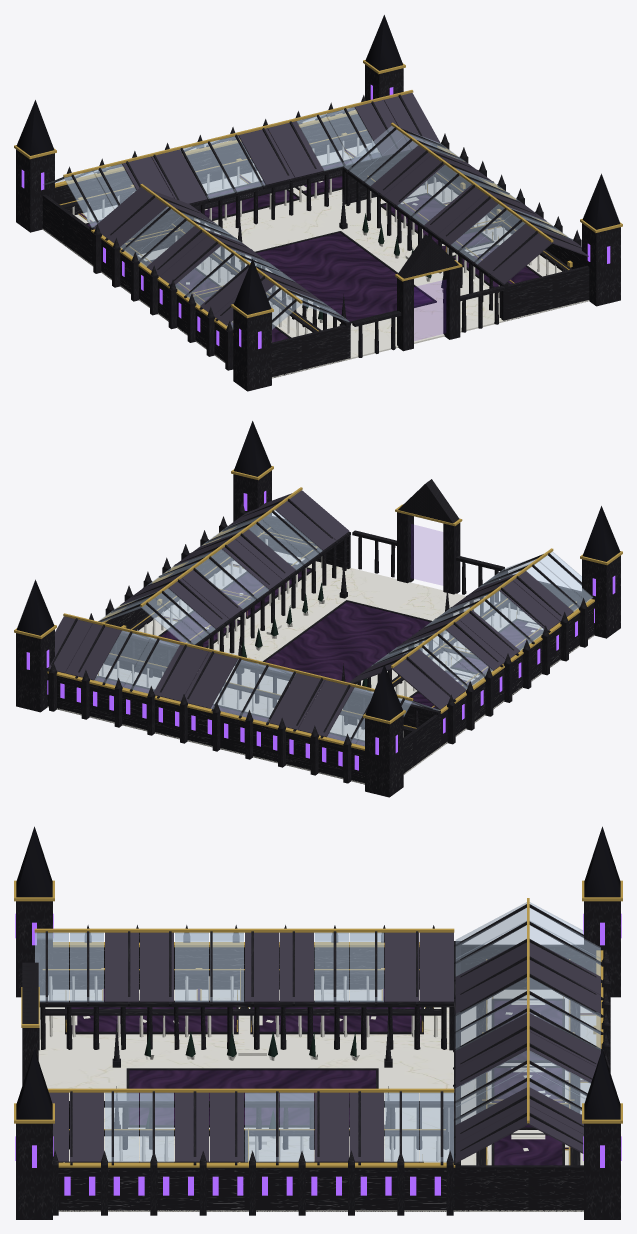
Rendered from inkwell-lake-far.glb.
3 renders of one model, top to bottom at view 1: azimuth 30°, elevation 25°; view 2: azimuth 150°, elevation 25°; view 3: azimuth 270°, elevation 25°, orthographic. The views are drawn at different scales.
Parts seen in each view (by area): view 1: object 1, Inkwell_Lake; view 2: object 1, Inkwell_Lake; view 3: object 1, Inkwell_Lake.
Boxes of the visible parts, x1,y1,x2,y2 form: object 1: (14, 15, 622, 391); Inkwell_Lake: (43, 93, 588, 329); object 1: (14, 421, 622, 797); Inkwell_Lake: (48, 490, 592, 746); object 1: (14, 826, 622, 1219); Inkwell_Lake: (35, 902, 600, 1162).
Bounding box in the file's own units: 276 × 87.6 × 296.
11 materials, 4 textured.
